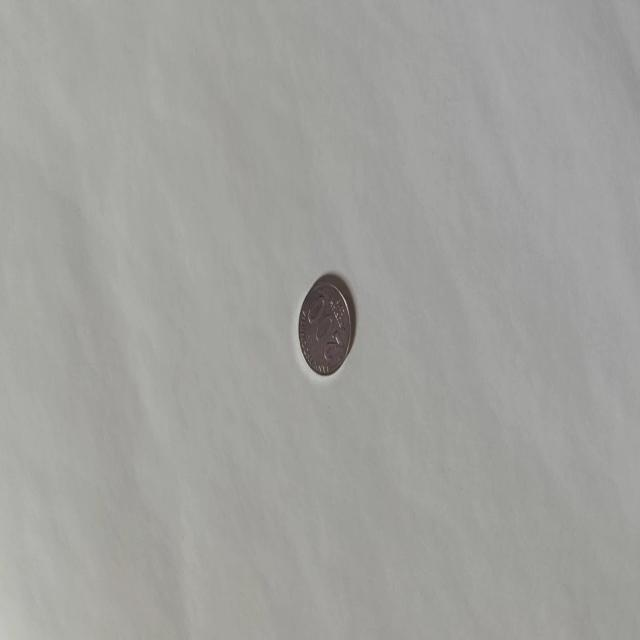dua ratus rupiah: (298, 275, 352, 377)
